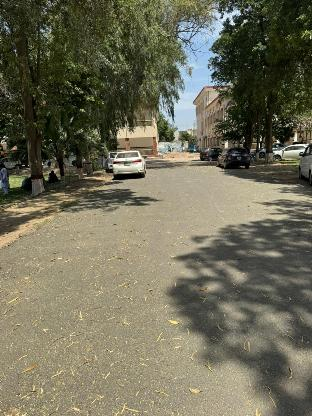car: (111, 149, 149, 179), (216, 145, 253, 172)
tree: (2, 1, 50, 203)
